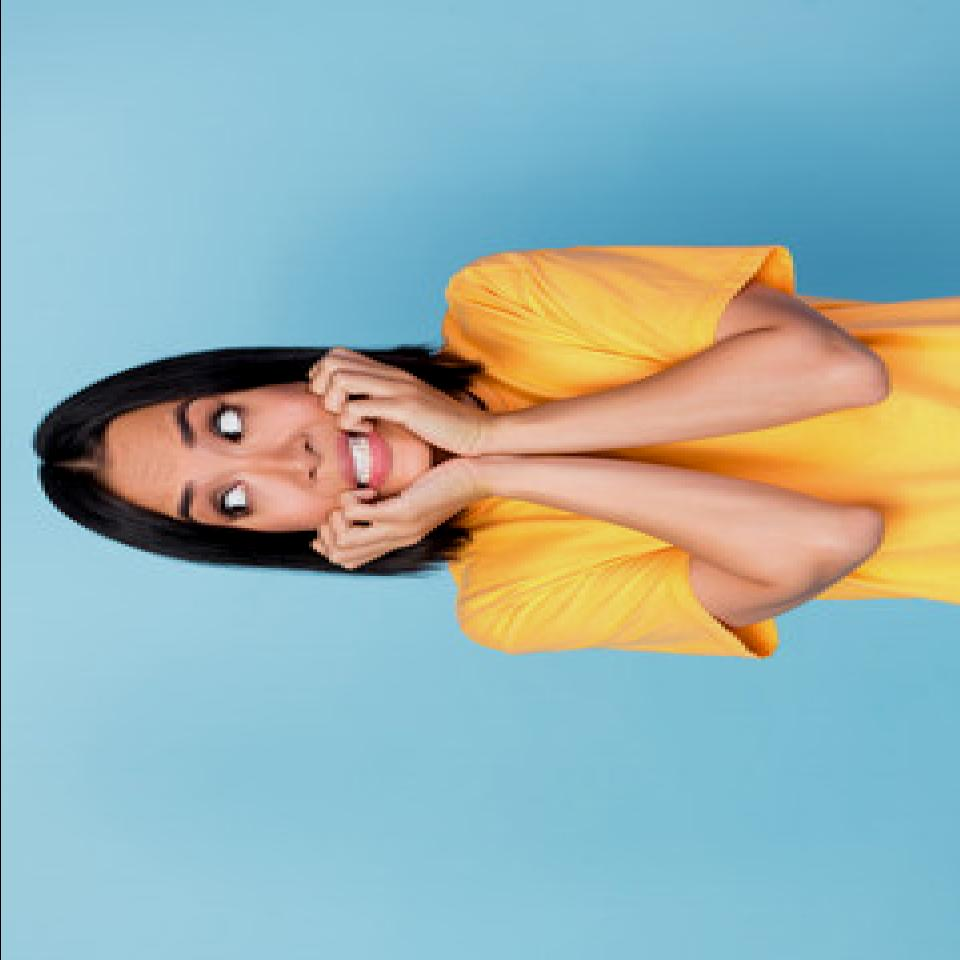Scared: (105, 354, 493, 570)
